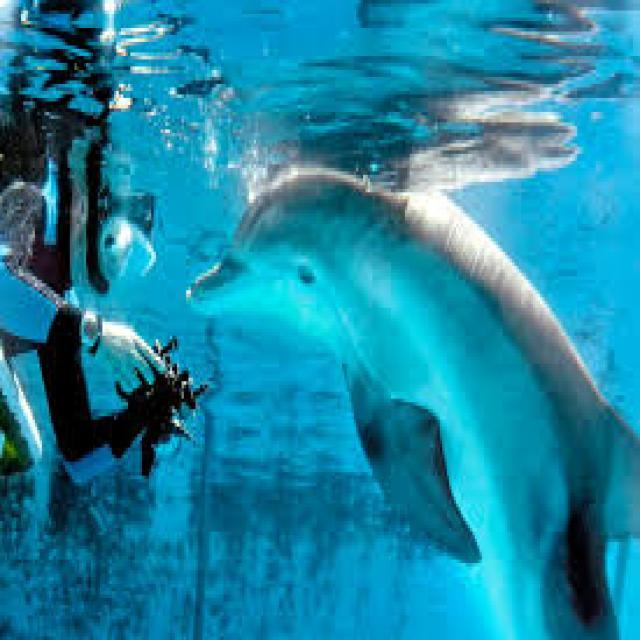dolphin: (184, 119, 638, 626)
